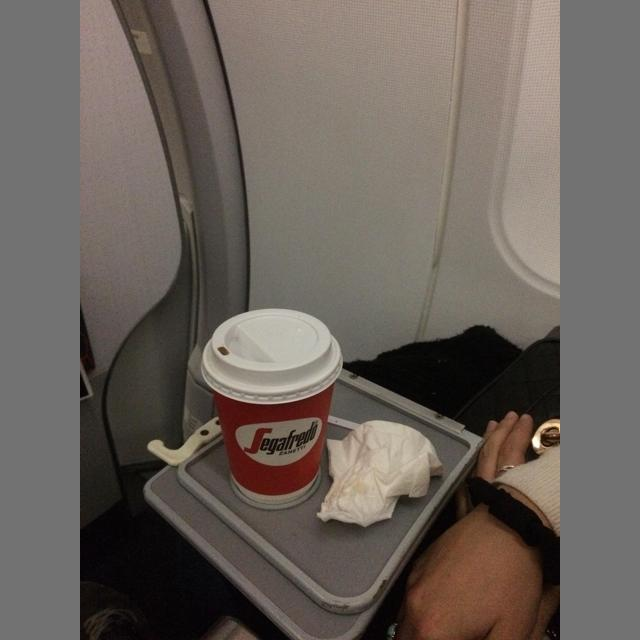litter: (203, 308, 343, 504), (317, 420, 445, 527), (201, 309, 343, 404)
